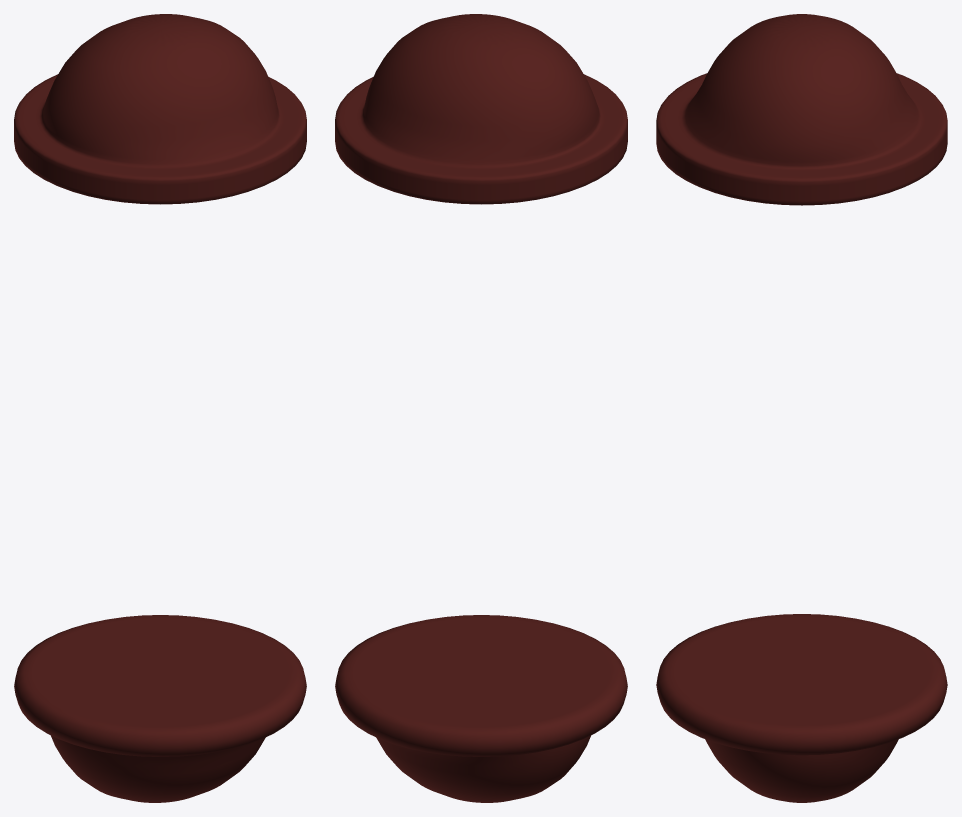
File: barber_cap.FBX
The picture shows the model from 3 angles, left to right: view 1: azimuth 30°, elevation 25°; view 2: azimuth 150°, elevation 25°; view 3: azimuth 270°, elevation 25°; orthographic projection.
Parts seen in each view (by area): view 1: Barber_Light_Base; view 2: Barber_Light_Base; view 3: Barber_Light_Base.
Part boxes in pixels (x1,y1,x2,y2): Barber_Light_Base: (14, 14, 306, 802); Barber_Light_Base: (335, 14, 627, 802); Barber_Light_Base: (656, 14, 947, 802).
Bounding box in the file's own units: 30.78 × 88.71 × 30.78.
